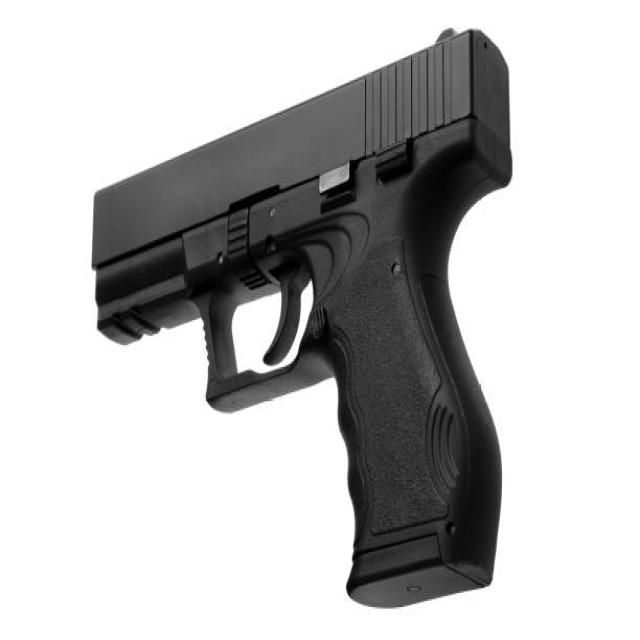pistol: (93, 26, 515, 624)
